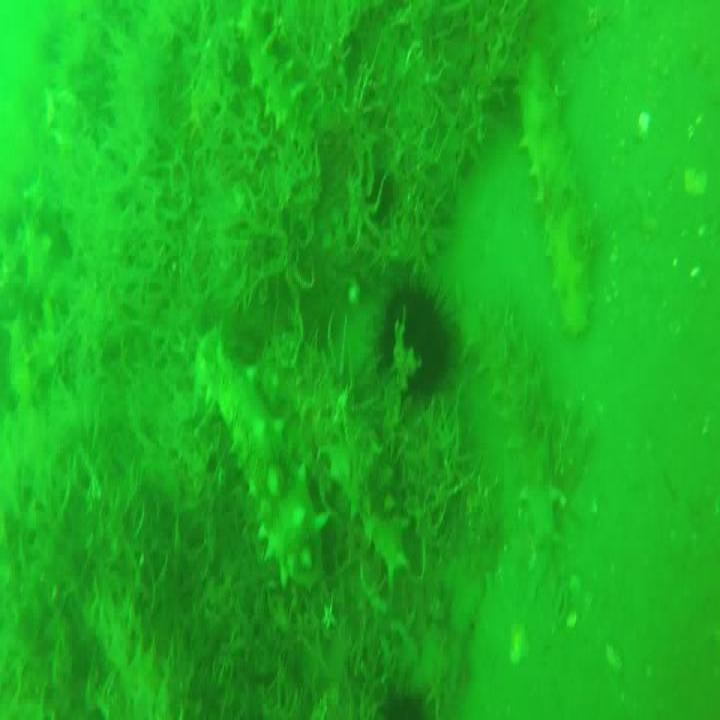echinus: (375, 279, 451, 407)
holothurian: (259, 340, 422, 578), (188, 331, 331, 581), (459, 307, 556, 585), (504, 39, 593, 334), (229, 6, 316, 150)
